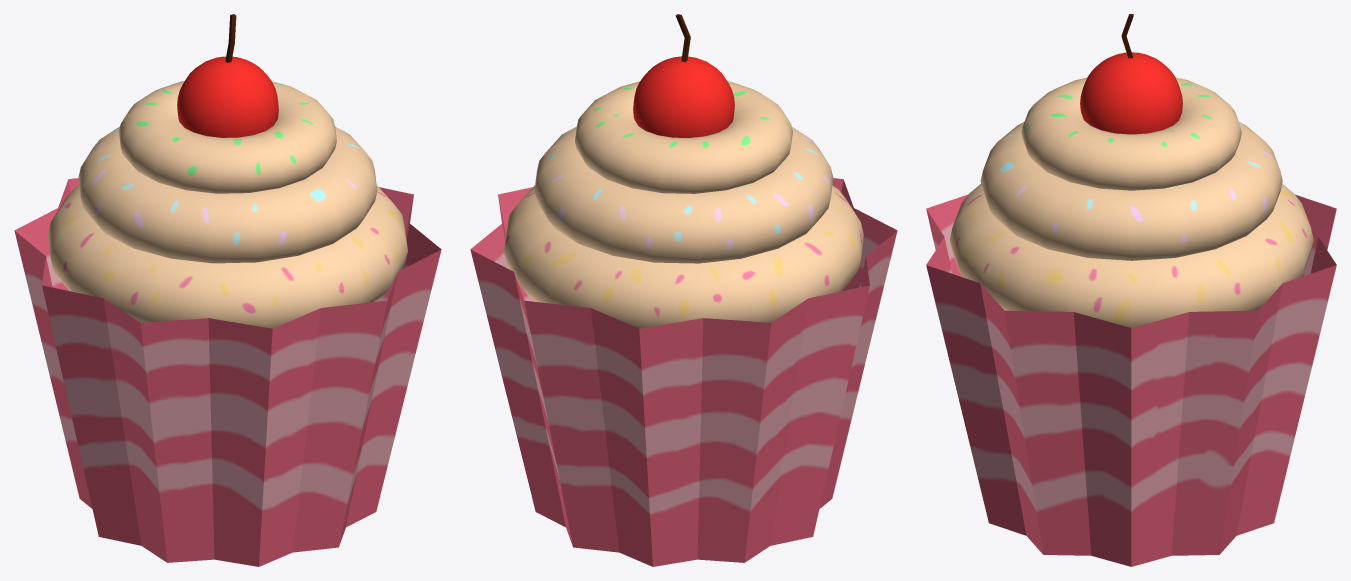
The model's file is Cupcake.fbx.
3 renders of one model, left to right at view 1: azimuth 30°, elevation 25°; view 2: azimuth 150°, elevation 25°; view 3: azimuth 270°, elevation 25°, orthographic.
Parts seen in each view (by area): view 1: pCylinder1, pTorus5, pTorus6, pTorus7, pSphere2; view 2: pCylinder1, pTorus5, pTorus6, pTorus7, pSphere2; view 3: pCylinder1, pTorus5, pTorus6, pTorus7, pSphere2.
Boxes of the visible parts, left/top/right/bottom form: pCylinder1: left=14, top=178, right=441, bottom=566; pTorus5: left=48, top=185, right=407, bottom=328; pTorus6: left=78, top=126, right=377, bottom=263; pTorus7: left=119, top=81, right=336, bottom=193; pSphere2: left=177, top=56, right=278, bottom=137; pCylinder1: left=470, top=178, right=897, bottom=566; pTorus5: left=504, top=185, right=863, bottom=328; pTorus6: left=534, top=127, right=833, bottom=263; pTorus7: left=575, top=81, right=792, bottom=193; pSphere2: left=633, top=56, right=734, bottom=137; pCylinder1: left=926, top=194, right=1336, bottom=566; pTorus5: left=949, top=184, right=1313, bottom=327; pTorus6: left=980, top=121, right=1282, bottom=260; pTorus7: left=1021, top=77, right=1241, bottom=190; pSphere2: left=1080, top=52, right=1182, bottom=134.
Bounding box in the file's own units: 2 × 2.51 × 1.9.
Materials: 1 (1 with a texture image).
